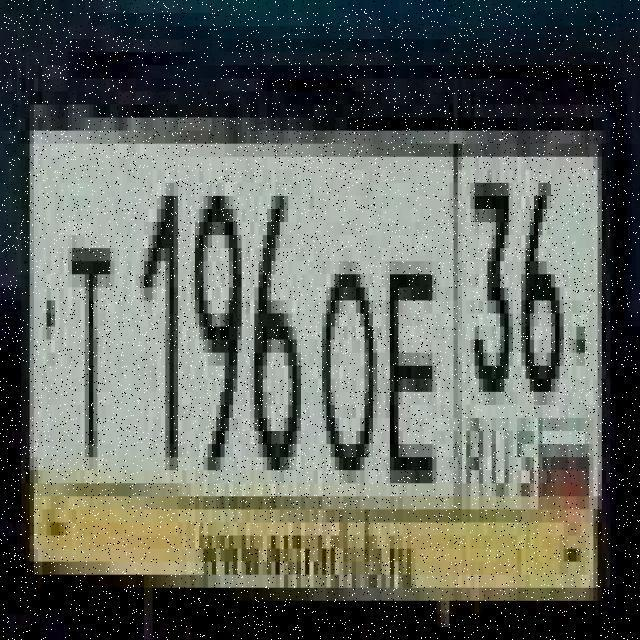LicensePlate: (17, 66, 620, 610)
